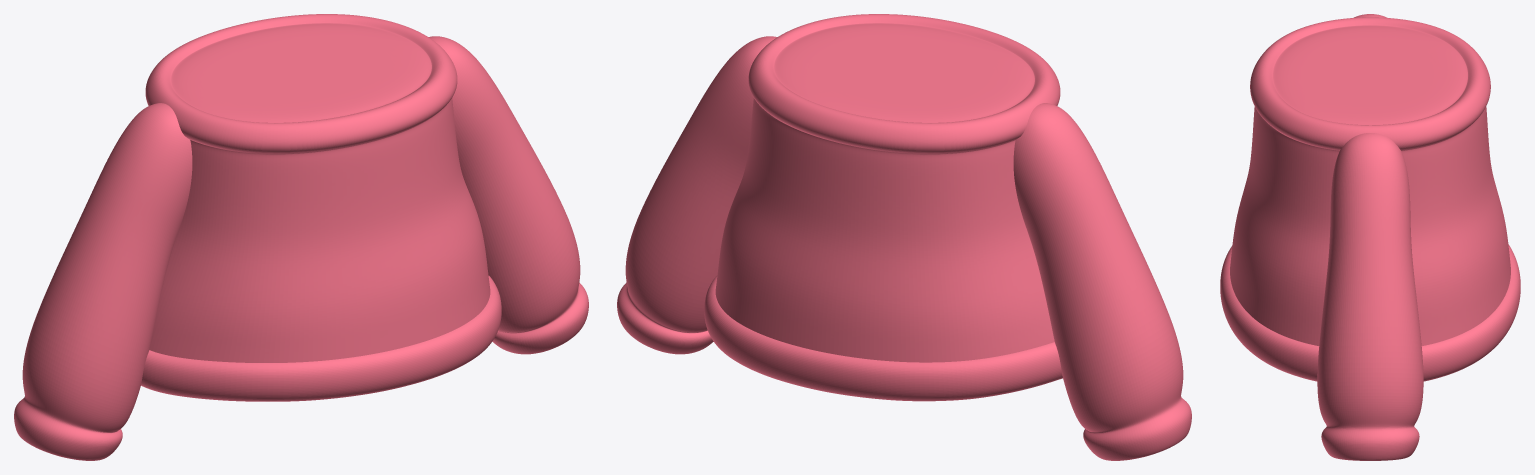
The model's file is CAMISETA_1_M.glb.
3 renders of one model, left to right at view 1: azimuth 30°, elevation 25°; view 2: azimuth 150°, elevation 25°; view 3: azimuth 270°, elevation 25°, orthographic. The views are drawn at different scales.
Parts seen in each view (by area): view 1: Cube.072, Cube.073; view 2: Cube.072, Cube.073; view 3: Cube.072, Cube.073.
Part boxes in pixels (x1,y1,x2,y2): Cube.072: [141, 14, 501, 401]; Cube.073: [14, 36, 588, 460]; Cube.072: [704, 14, 1062, 401]; Cube.073: [617, 36, 1191, 460]; Cube.072: [1220, 17, 1520, 381]; Cube.073: [1317, 14, 1423, 460].
Size of the model in its own units: 3.22 by 1.81 by 1.69.
